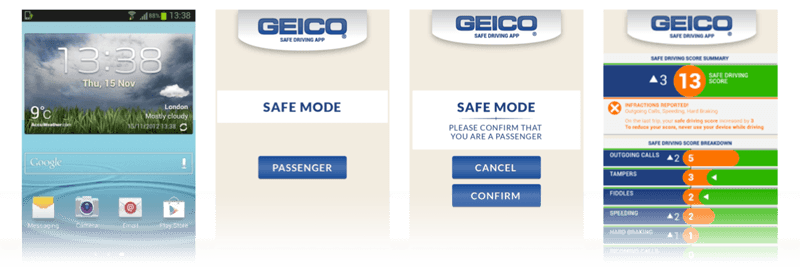geico: (252, 16, 350, 43), (648, 12, 741, 40), (453, 12, 548, 38)
